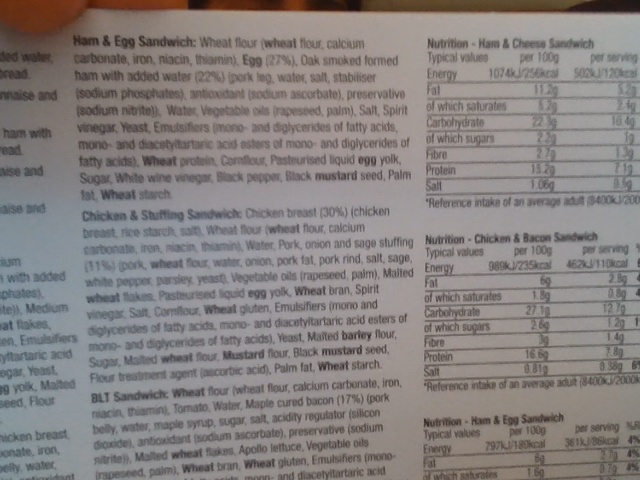egg: (238, 51, 264, 69)
wheat: (98, 188, 140, 202)
